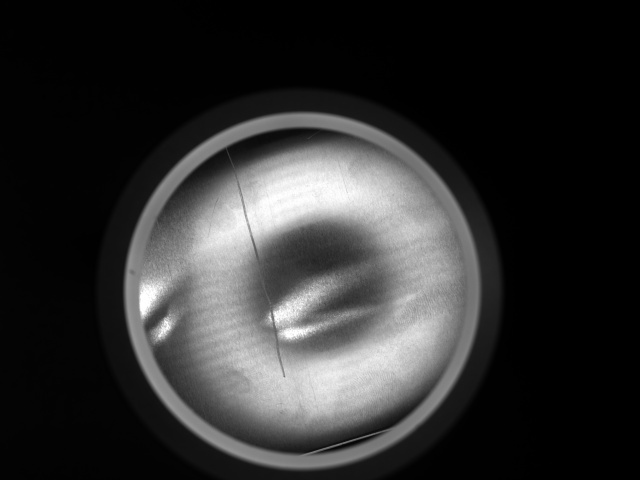ca_shang: (224, 151, 286, 383)
